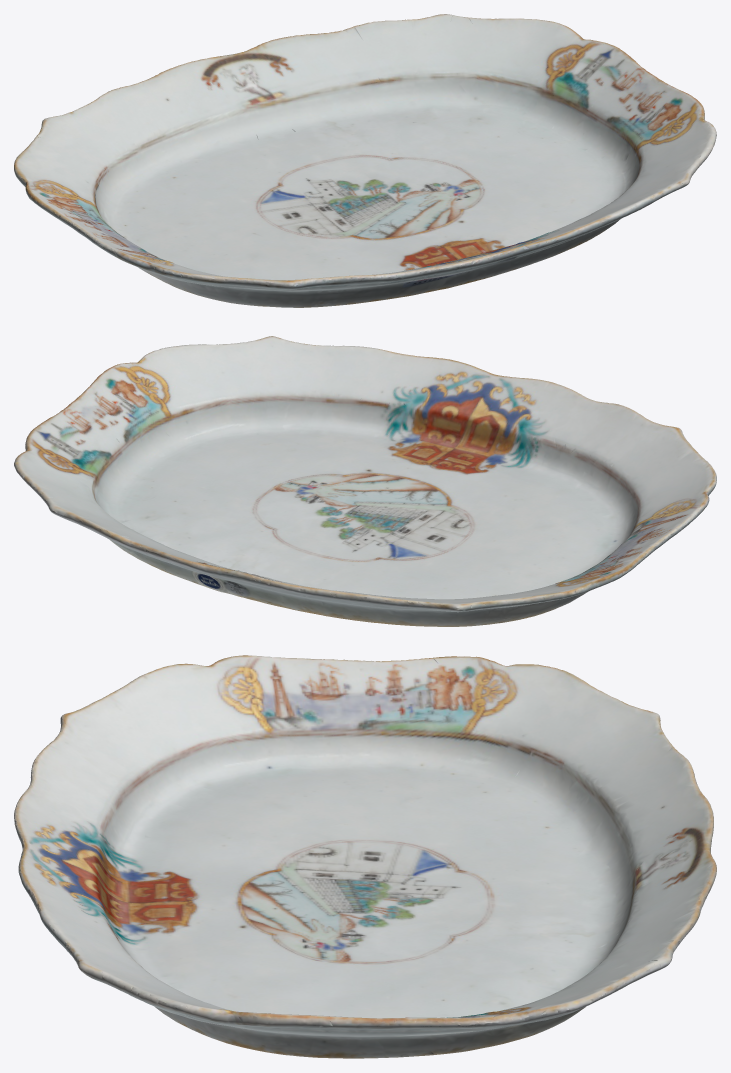
The model's file is 广彩徽章广州风景长方盘.glb.
3 views of the same model, one above another, from view 1: azimuth 30°, elevation 25°; view 2: azimuth 150°, elevation 25°; view 3: azimuth 270°, elevation 25° (orthographic). The views are drawn at different scales.
Parts seen in each view (by area): view 1: Polygonal_Model_1_14_jm; view 2: Polygonal_Model_1_14_jm; view 3: Polygonal_Model_1_14_jm.
Boxes of the visible parts, x1,y1,x2,y2 form: Polygonal_Model_1_14_jm: [14, 14, 716, 307]; Polygonal_Model_1_14_jm: [14, 336, 716, 626]; Polygonal_Model_1_14_jm: [14, 655, 716, 1058].
Size of the model in its own units: 364 by 38.98 by 294.
Materials: 1 (1 with a texture image).
